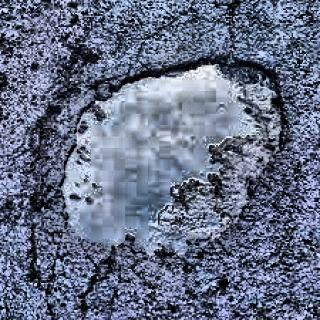pothole: (52, 44, 287, 268)
